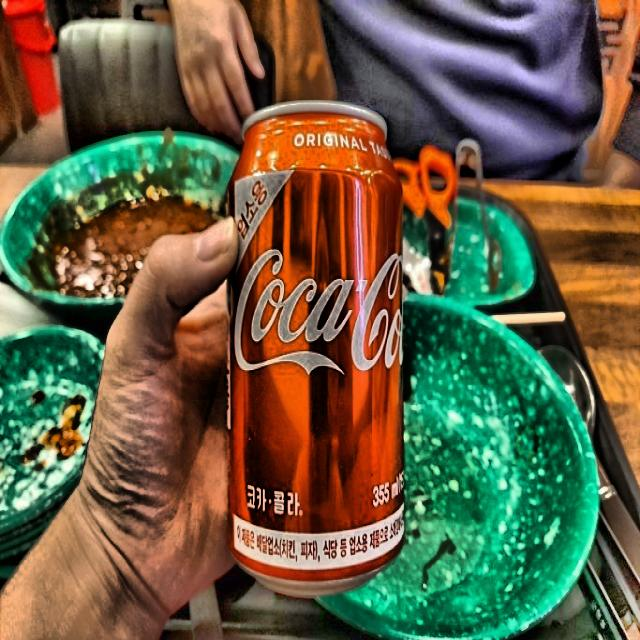cocacola: (236, 90, 409, 592)
